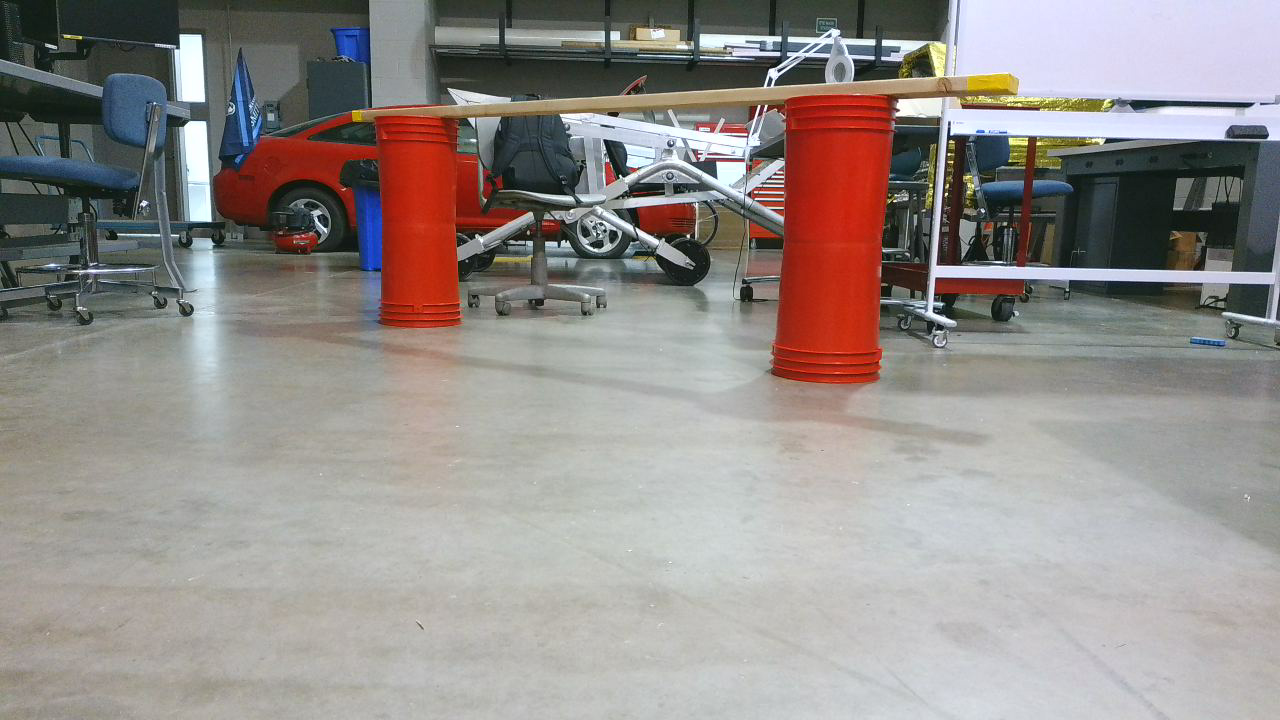red_bucket_arch: (380, 84, 906, 385)
